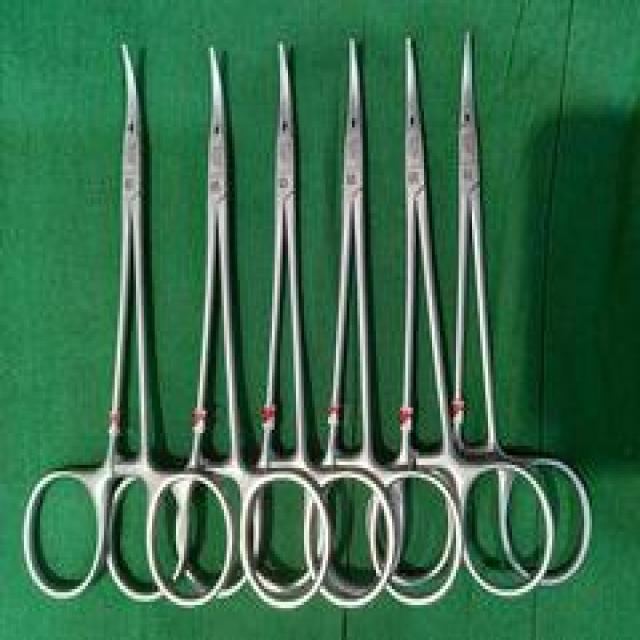Hemostat: (99, 39, 334, 612), (336, 28, 558, 606), (178, 35, 402, 605), (370, 25, 594, 592), (19, 38, 238, 608), (254, 39, 464, 612)
